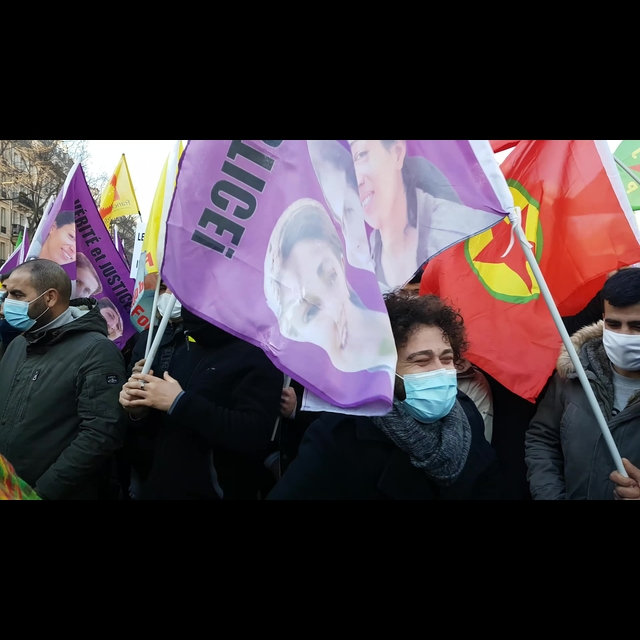PKK: (468, 178, 558, 307)
